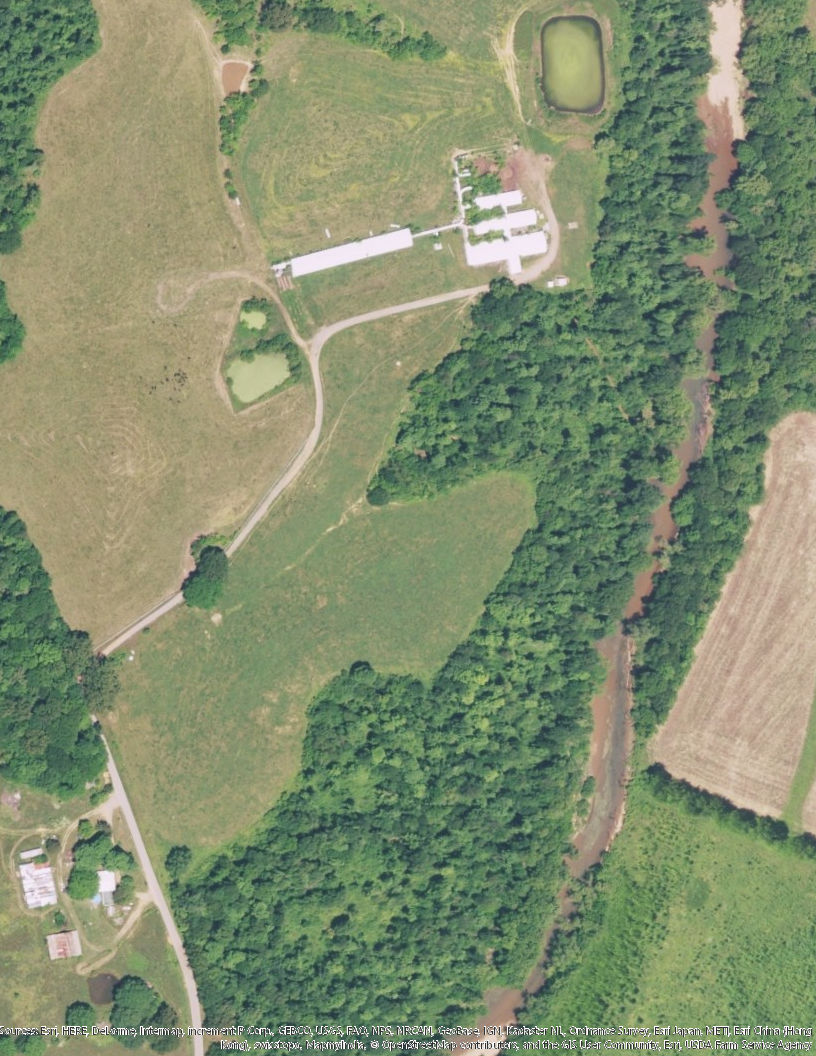cafo: (270, 221, 427, 285)
